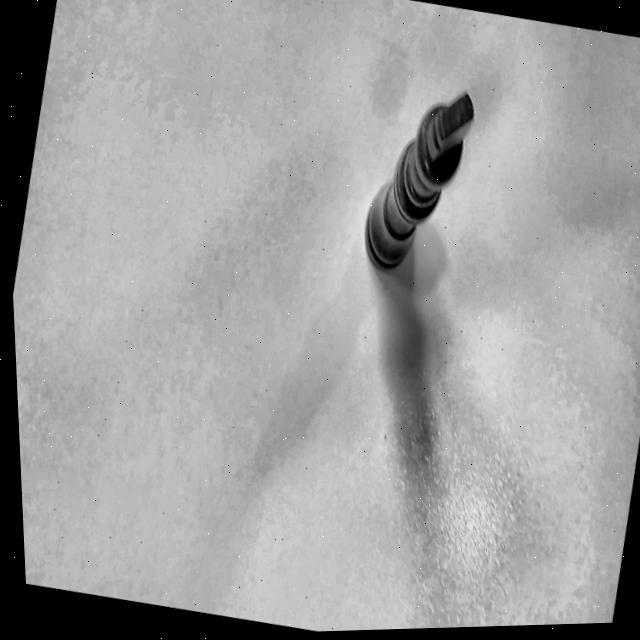black-king: (335, 51, 504, 304)
